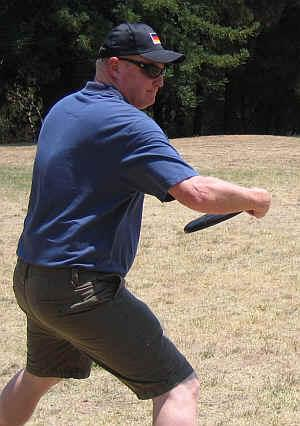person: (2, 21, 271, 425)
